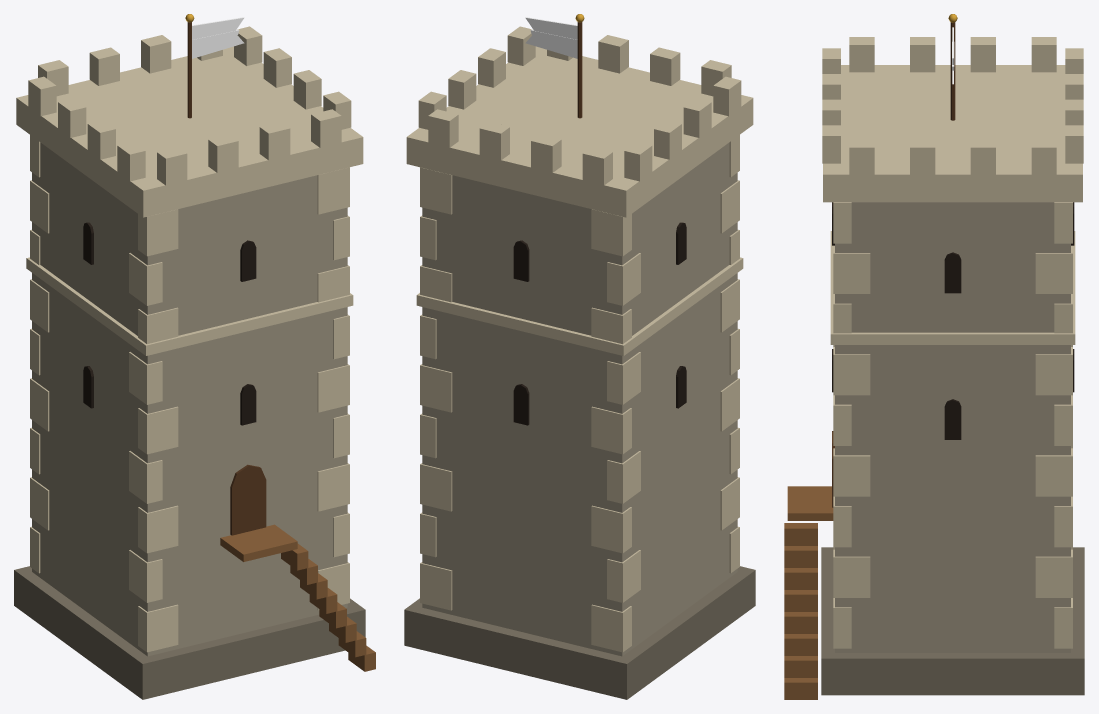
The model's file is castle_keep.glb.
The picture shows the model from 3 angles, left to right: view 1: azimuth 30°, elevation 25°; view 2: azimuth 150°, elevation 25°; view 3: azimuth 270°, elevation 25°; orthographic projection. The views are drawn at different scales.
Visible parts, largest first — view 1: castle_keep; view 2: castle_keep; view 3: castle_keep.
Part boxes in pixels (bbox=[...]): castle_keep: bbox=[14, 14, 375, 699]; castle_keep: bbox=[404, 14, 755, 699]; castle_keep: bbox=[784, 14, 1084, 699].
Bounding box in the file's own units: 7.8 × 20.74 × 8.9.
